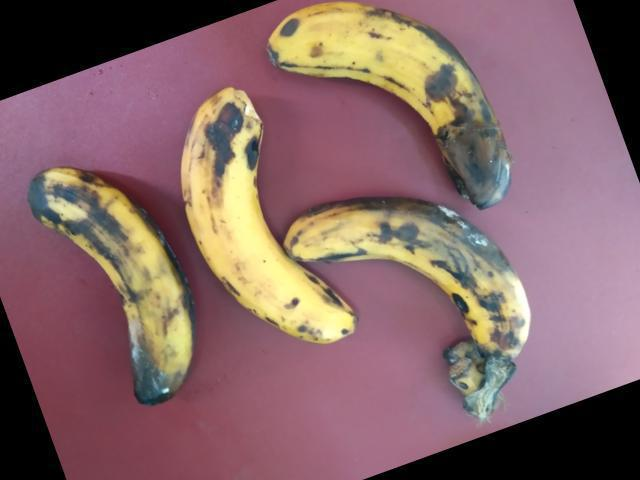overripe: (163, 79, 344, 353)
rotten: (267, 0, 519, 212), (25, 144, 190, 419), (278, 195, 544, 365)
